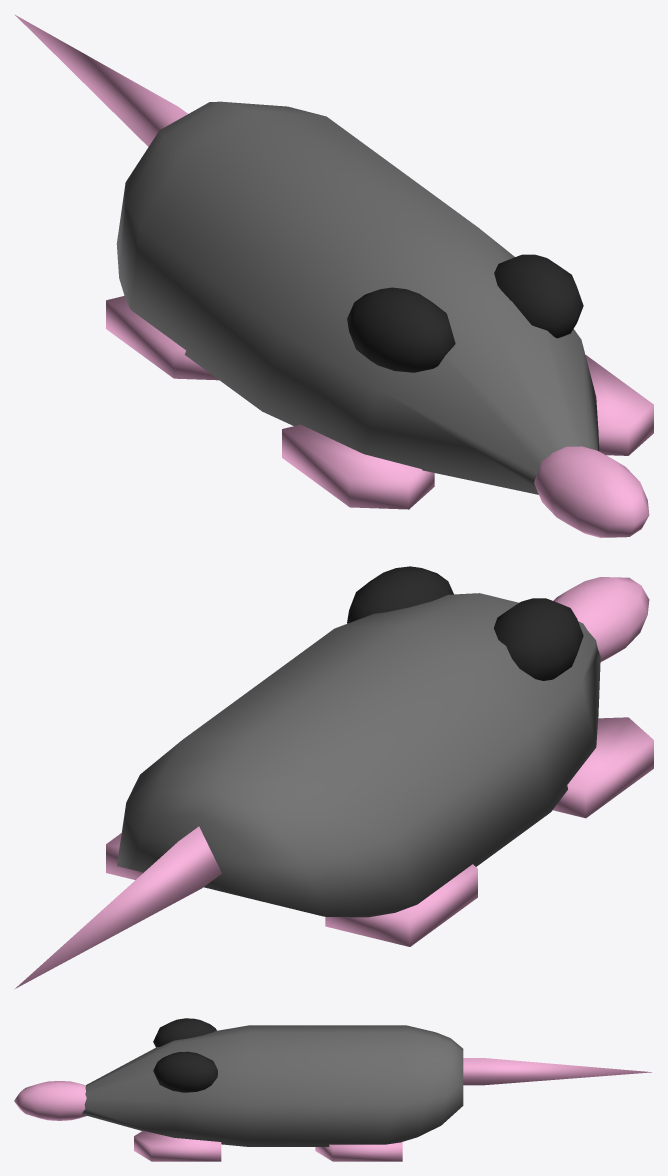
The model's file is rato.fbx.
3 views of the same model, one above another, from view 1: azimuth 30°, elevation 25°; view 2: azimuth 150°, elevation 25°; view 3: azimuth 270°, elevation 25° (orthographic). The views are drawn at different scales.
Parts seen in each view (by area): view 1: Rato; view 2: Rato; view 3: Rato.
Part boxes in pixels (bbox=[...]): Rato: bbox=[14, 14, 653, 537]; Rato: bbox=[14, 566, 653, 989]; Rato: bbox=[14, 1018, 651, 1161].
Size of the model in its own units: 0.5995 by 0.3303 by 2.12.
